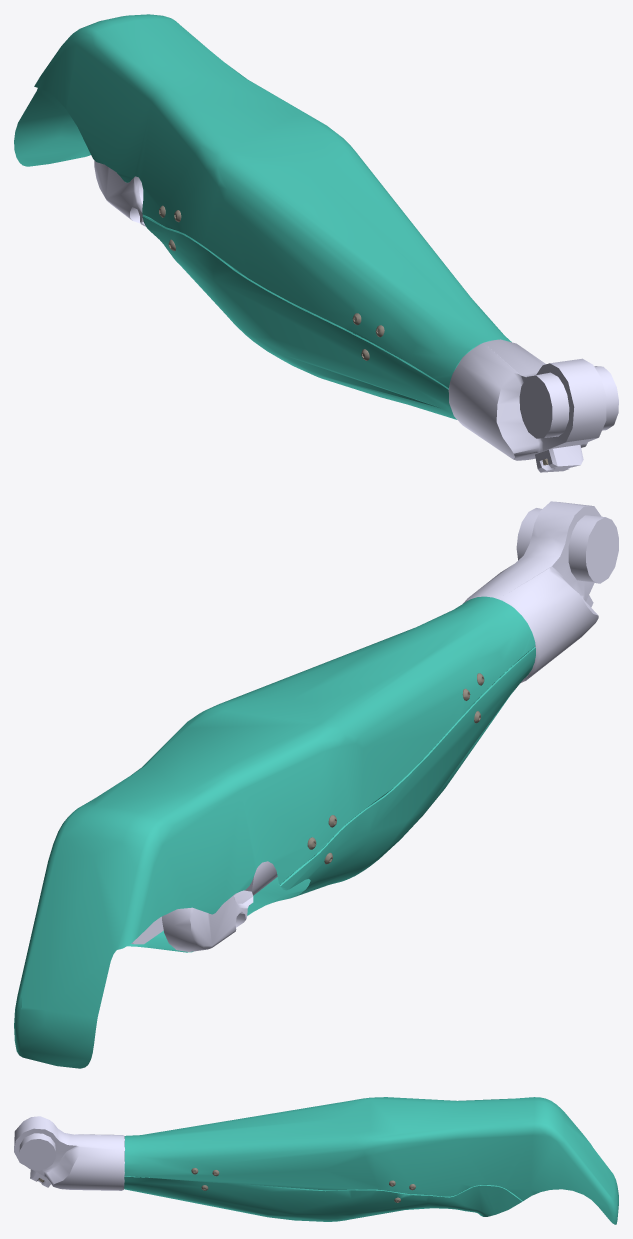
Rendered from right-shin.obj.
The picture shows the model from 3 angles, top to bottom: view 1: azimuth 30°, elevation 25°; view 2: azimuth 150°, elevation 25°; view 3: azimuth 270°, elevation 25°; orthographic projection. The views are drawn at different scales.
Visible parts, largest first — view 1: right_shin; view 2: right_shin; view 3: right_shin.
Part boxes in pixels (<box>): right_shin: <box>14,14,618,472</box>; right_shin: <box>14,501,618,1068</box>; right_shin: <box>14,1097,618,1224</box>.
Bounding box in the file's own units: 0.0988 × 0.1167 × 0.5742.
Materials: 1 (1 with a texture image).
